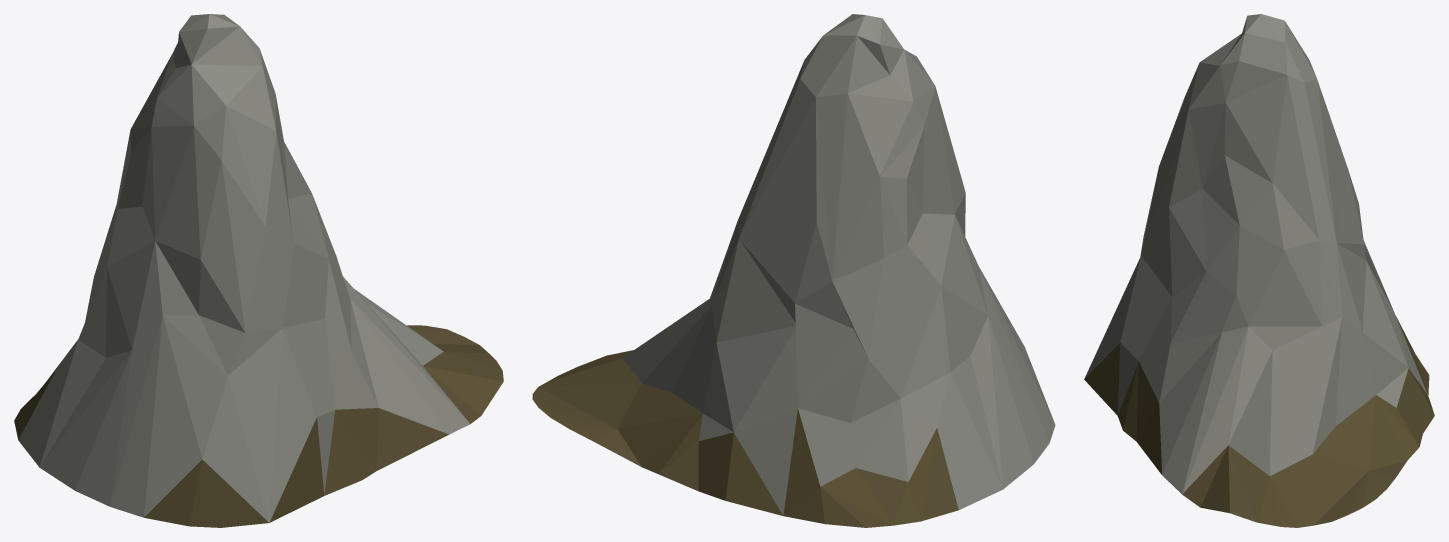
Rendered from Mountain_Single.gltf.
3 renders of one model, left to right at view 1: azimuth 30°, elevation 25°; view 2: azimuth 150°, elevation 25°; view 3: azimuth 270°, elevation 25°, orthographic. The views are drawn at different scales.
Visible parts, largest first — view 1: Cube048, Cube048_1; view 2: Cube048, Cube048_1; view 3: Cube048, Cube048_1.
Boxes of the visible parts, box(x1,y1,x2,y2) form: Cube048: box(18, 14, 470, 522); Cube048_1: box(14, 325, 503, 527); Cube048: box(622, 14, 1055, 515); Cube048_1: box(532, 350, 958, 527); Cube048: box(1084, 14, 1427, 494); Cube048_1: box(1084, 316, 1434, 527).
Bounding box in the file's own units: 1.5 × 1.37 × 1.12.
